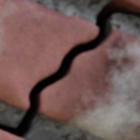brick: (112, 0, 139, 11), (0, 130, 23, 139)
broken_brick: (38, 30, 139, 139), (0, 0, 97, 110)
crack: (0, 1, 139, 137)
